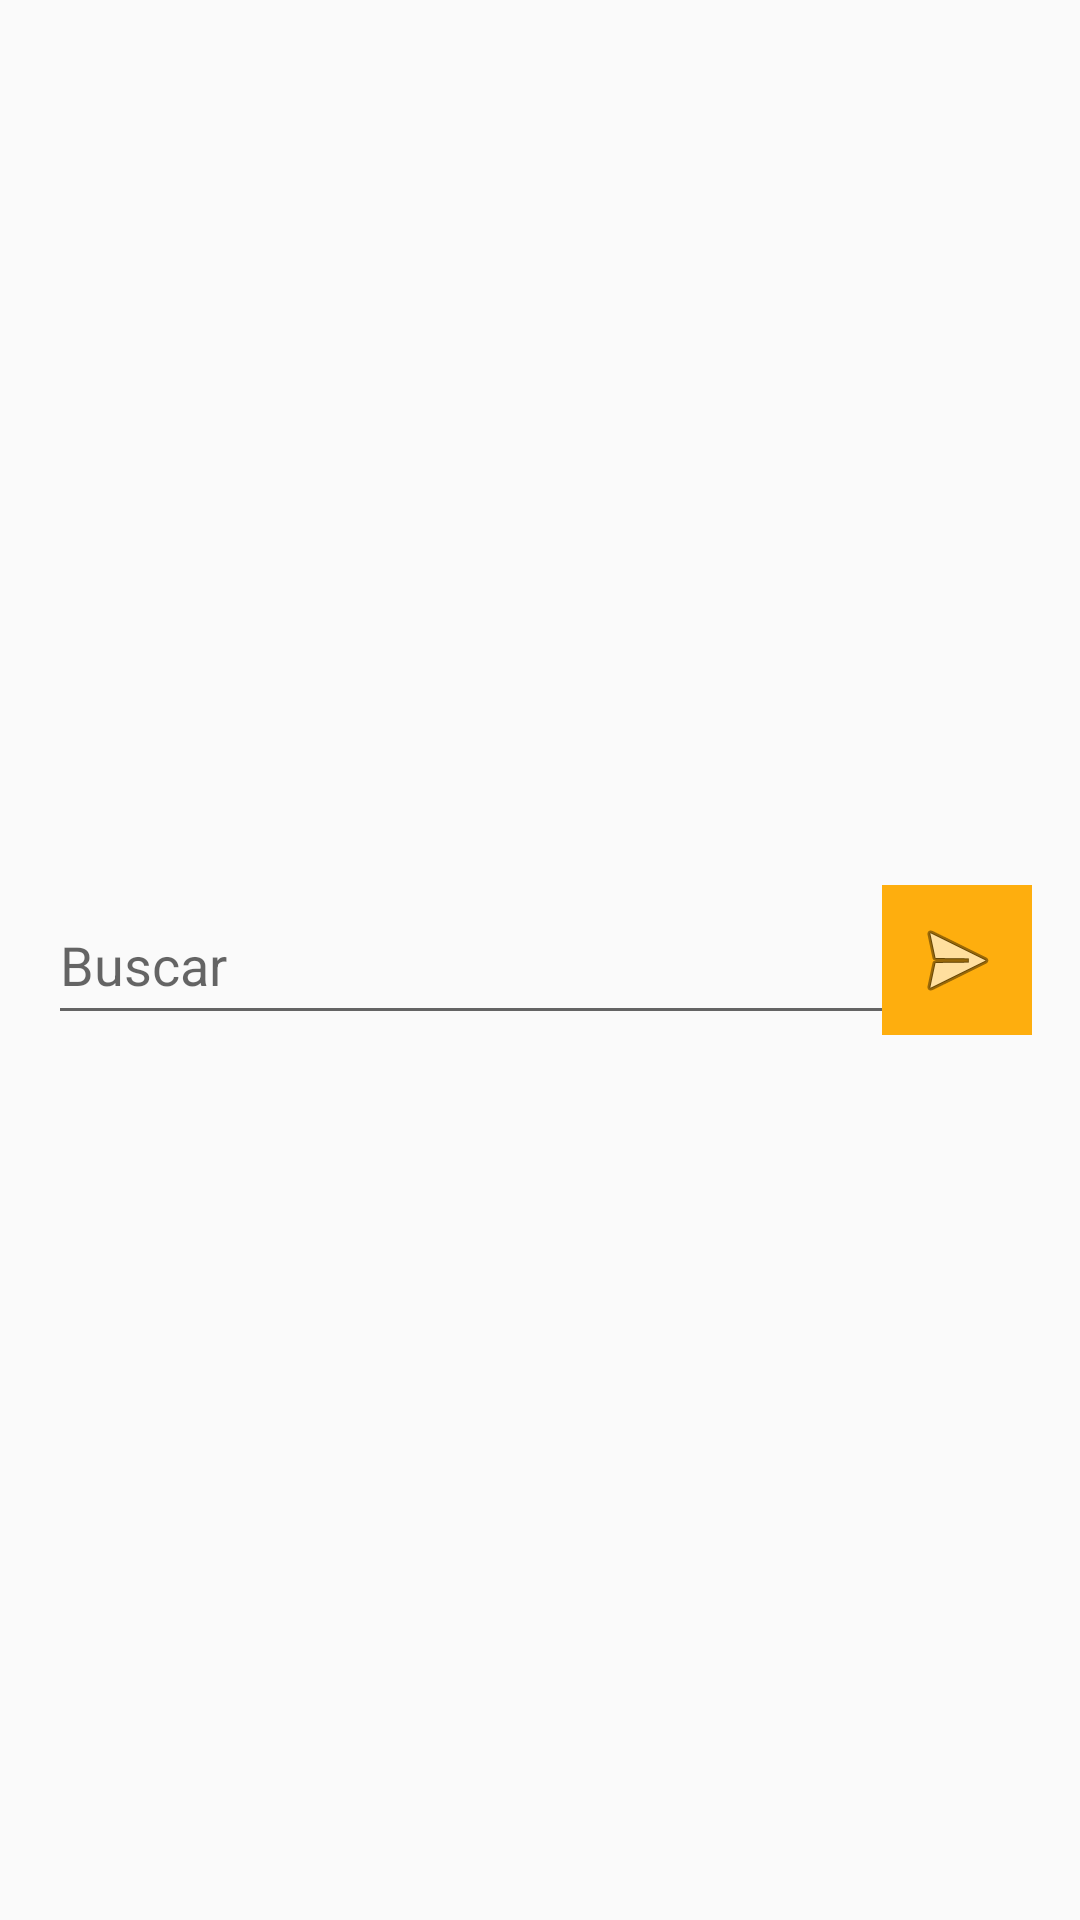

Named icons in this screenshot (1080px x 1920px) and their bounding boxes, (x1, y1, x2, y2):
send: (882, 885, 1032, 1035)
